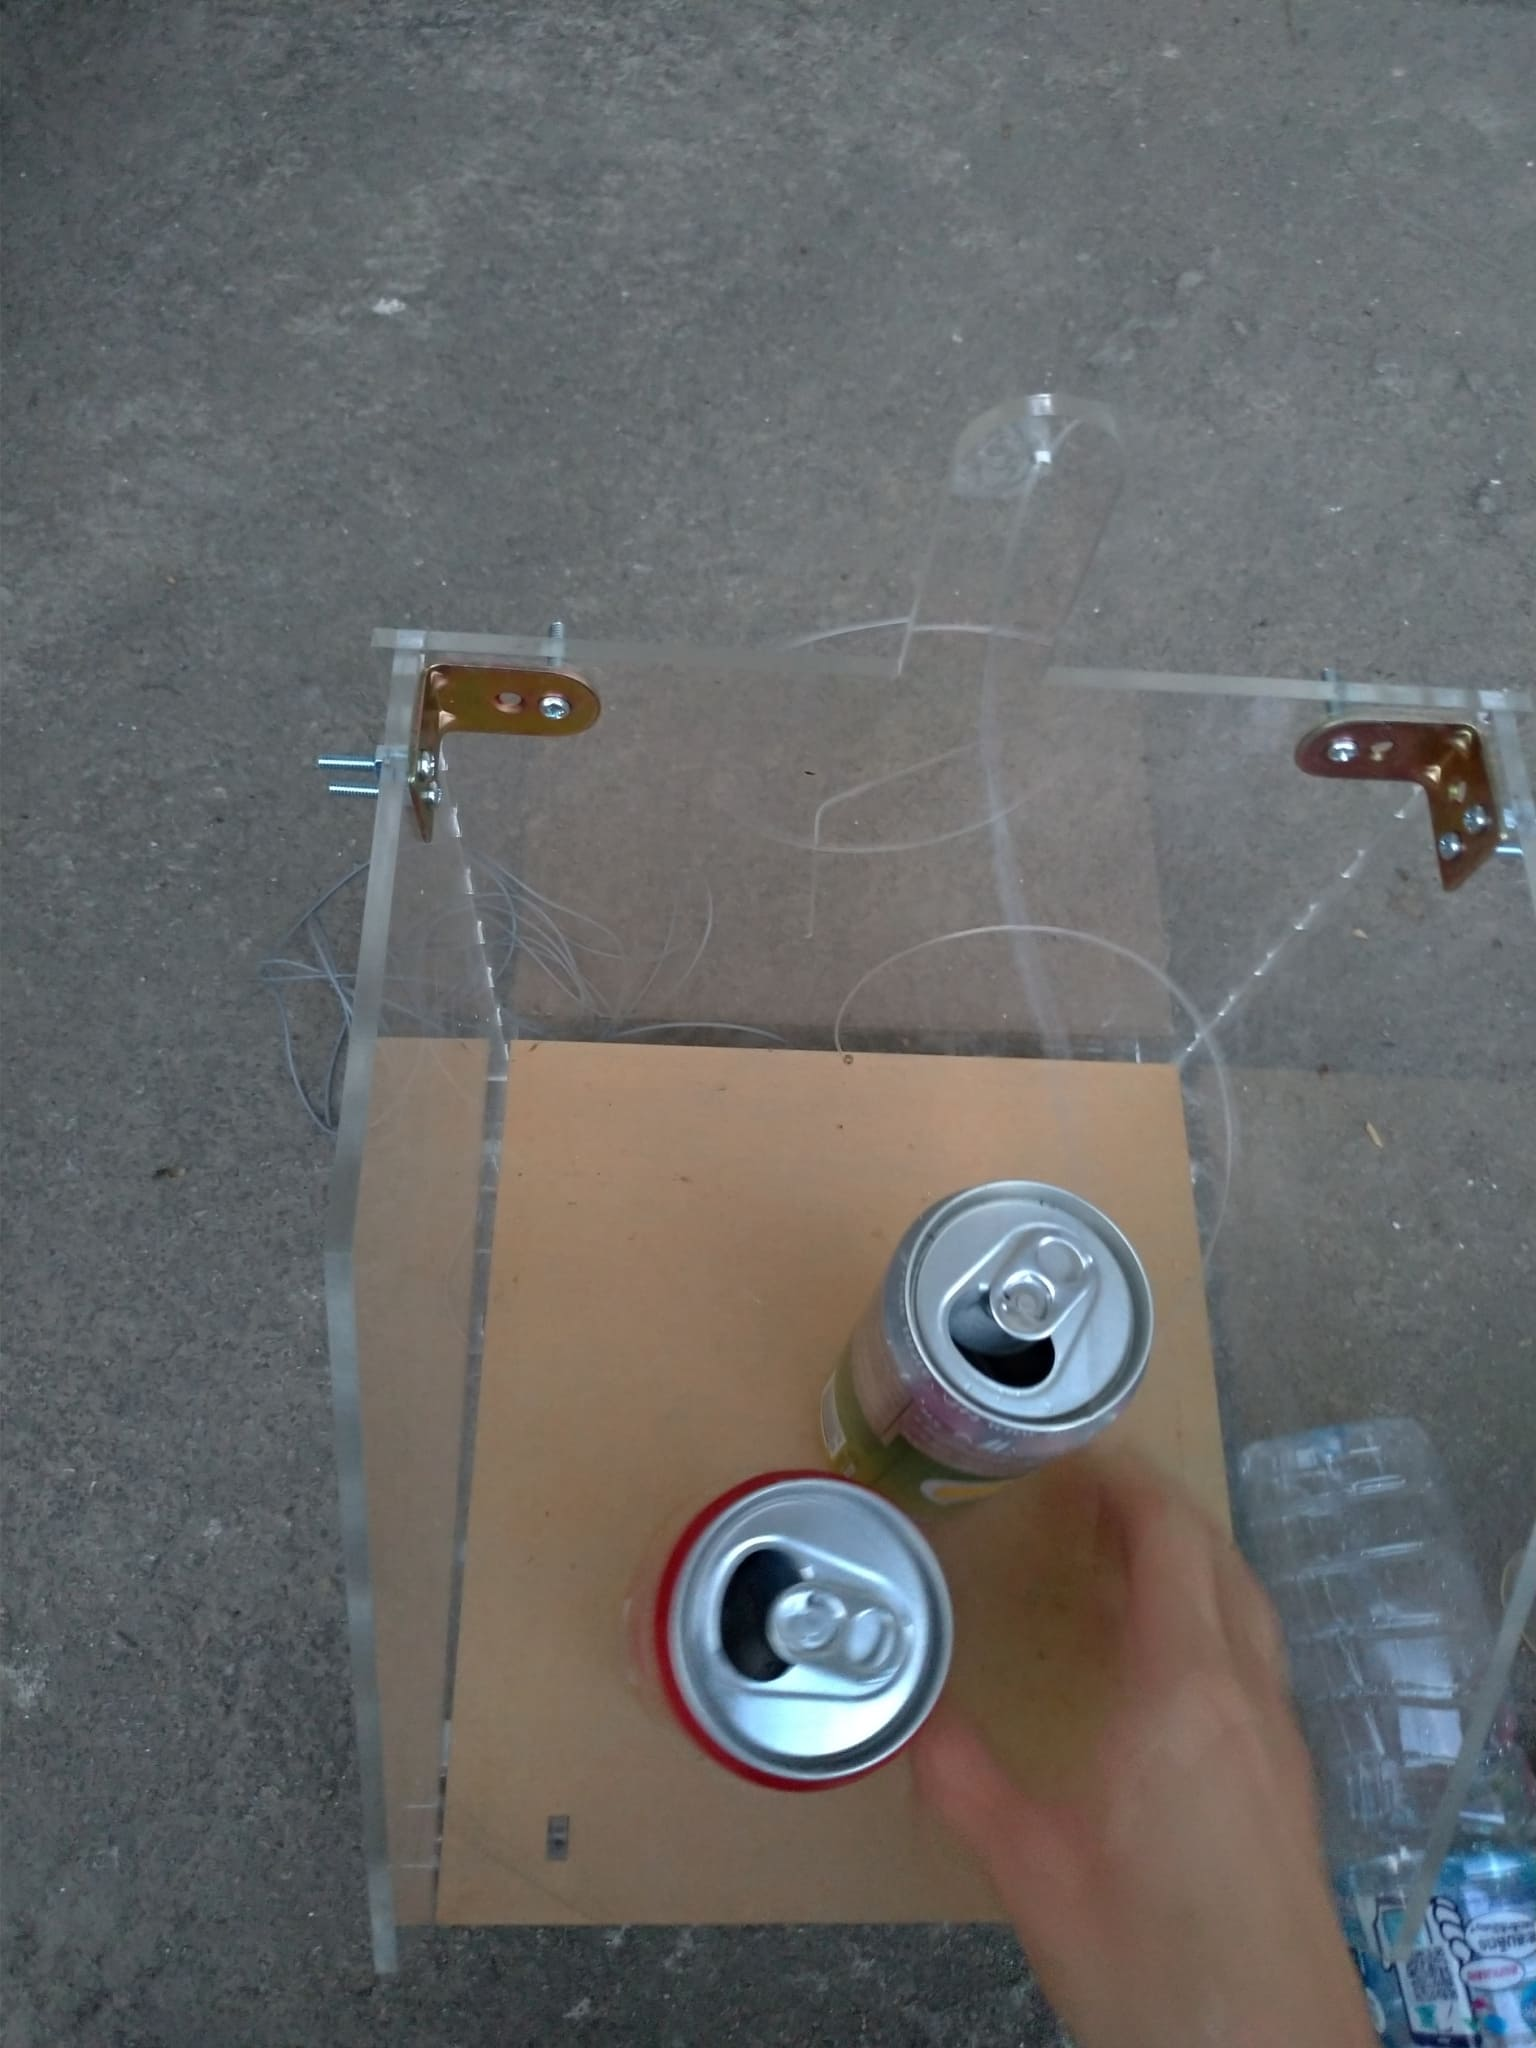AlCan: (816, 1177, 1162, 1535), (624, 1464, 957, 1777)
PlasticBottle: (1233, 1416, 1536, 2033)
